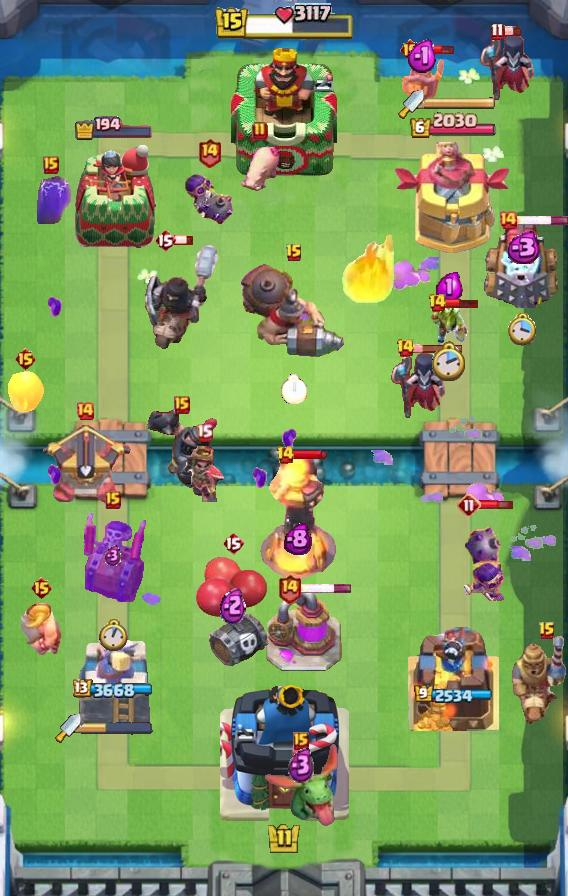bar: (394, 142, 512, 256), (77, 637, 151, 731)
bomber-evolution: (182, 446, 226, 502)
clock: (213, 3, 355, 43)
electro-dragon: (258, 454, 338, 582)
electro-spirit: (502, 232, 542, 265), (407, 39, 439, 73), (220, 584, 246, 623), (288, 747, 315, 783), (284, 521, 312, 554), (436, 269, 463, 302), (105, 546, 121, 567)
electro-wizard: (262, 743, 340, 829)
elixir: (432, 341, 467, 383), (99, 619, 128, 652), (508, 313, 536, 347), (281, 374, 307, 404)
emote: (300, 582, 353, 594), (412, 343, 464, 354), (516, 215, 567, 226), (478, 497, 513, 511), (419, 44, 455, 57), (292, 449, 328, 461), (444, 299, 480, 310), (174, 234, 194, 246), (502, 26, 521, 37)
giant: (239, 143, 281, 195)
goblin-ball: (460, 510, 508, 606), (183, 173, 235, 229)
goblin-giant: (22, 601, 63, 656)
golem: (482, 218, 562, 308)
hog: (5, 370, 45, 414)
inferno-dragon: (141, 242, 223, 352)
king-tower: (219, 678, 349, 826), (231, 43, 337, 181)
king-tower-bar: (424, 97, 496, 111), (81, 721, 153, 735)
lava-pup: (39, 423, 131, 505)
pekka: (264, 591, 342, 673)
princess: (400, 49, 446, 105)
queen-tower: (407, 627, 499, 731), (71, 144, 157, 255)
ram-rider: (508, 634, 568, 730)
rascal-boy: (478, 33, 536, 103), (389, 351, 447, 421)
royal-guardian: (143, 406, 221, 498)
royal-recruit-evolution: (194, 554, 272, 670)
selected: (409, 112, 497, 140), (74, 115, 154, 140), (73, 679, 155, 700), (414, 685, 494, 705)
skeleton-king-bar: (80, 508, 146, 602)
spear-goblin: (31, 174, 71, 224)
text: (197, 137, 222, 168), (277, 573, 302, 603), (398, 38, 422, 62), (457, 493, 481, 517), (15, 347, 38, 371), (31, 576, 54, 600), (154, 228, 176, 252), (222, 531, 244, 555), (498, 210, 518, 230), (75, 401, 95, 421), (276, 445, 296, 465), (429, 293, 448, 313), (397, 338, 416, 358), (285, 243, 303, 263), (538, 621, 556, 641), (195, 423, 213, 441), (252, 121, 268, 141), (43, 156, 59, 174), (174, 396, 190, 414), (105, 491, 121, 509), (293, 732, 309, 750), (491, 22, 506, 41)
valkyrie: (339, 235, 399, 305)
wizard: (238, 262, 350, 360)
zap: (429, 305, 469, 345)
